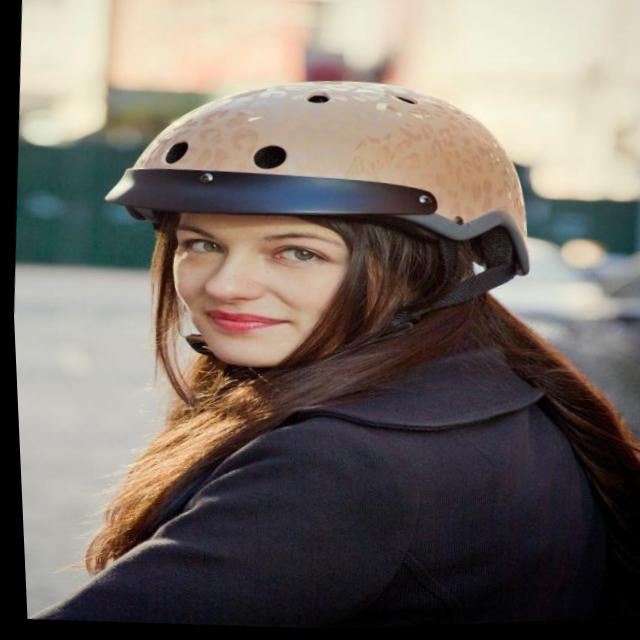helmet: (87, 57, 542, 421)
